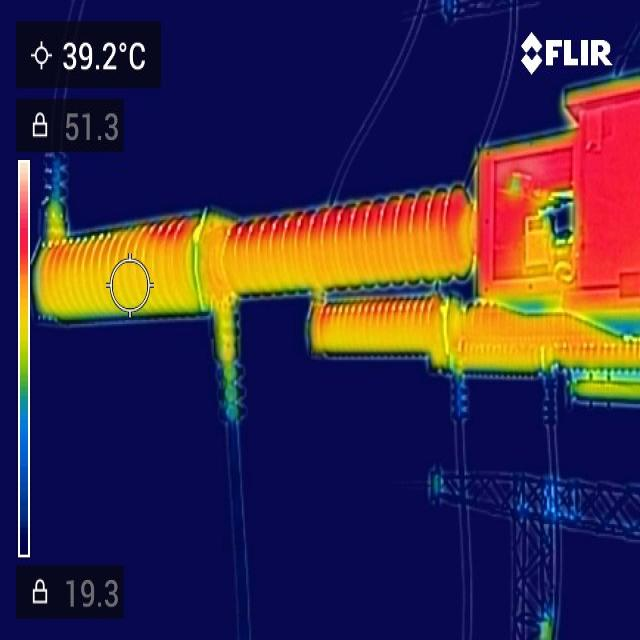Zona_Atenco: (228, 236, 458, 295)
Zona_Critica: (484, 88, 638, 282), (234, 192, 450, 240)
